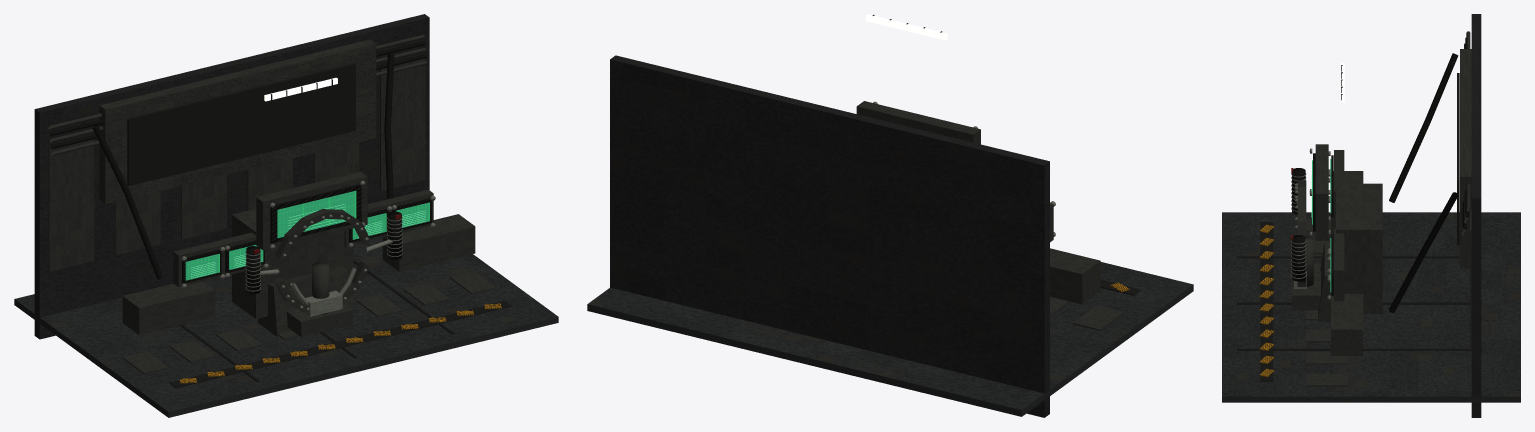
Rendered from GLB_01_cockpit_helm_and_status.glb.
3 views of the same model, side by side, from view 1: azimuth 30°, elevation 25°; view 2: azimuth 150°, elevation 25°; view 3: azimuth 270°, elevation 25° (orthographic). The views are drawn at different scales.
Parts seen in each view (by area): view 1: cockpit_oily_diamond_floor_base, cockpit_rear_blackened_wall, cockpit_forward_window_black_glass, cockpit_wide_forward_window_outer_frame, cockpit_rear_panel_0, cockpit_rear_panel_5, cockpit_central_status_console_body, cockpit_side_console_-1.8, cockpit_side_console_1.8, cockpit_large_center_crt_thick_chipped_frame, cockpit_rear_panel_2, cockpit_rear_panel_1 (+27 smaller); view 2: cockpit_rear_blackened_wall, cockpit_oily_diamond_floor_base, cockpit_side_console_-1.8, cockpit_large_center_crt_thick_chipped_frame, cockpit_raised_floor_panel_0, cockpit_overhead_strip_light_warm_cage; view 3: cockpit_oily_diamond_floor_base, cockpit_central_status_console_body, cockpit_rear_blackened_wall, cockpit_wide_forward_window_outer_frame, cockpit_side_console_1.8, cockpit_black_recessed_hazard_strip, cockpit_large_center_crt_thick_chipped_frame, cockpit_side_hose_-2.05, cockpit_side_hose_2.05, cockpit_console_sloped_base, cockpit_helm_floor_mounted_base, cockpit_right_handle_rubber_core (+12 smaller).
Part boxes in pixels (left/top/right/bottom): cockpit_oily_diamond_floor_base: left=14, top=237, right=558, bottom=417; cockpit_rear_blackened_wall: left=34, top=14, right=429, bottom=339; cockpit_forward_window_black_glass: left=127, top=63, right=355, bottom=185; cockpit_wide_forward_window_outer_frame: left=99, top=39, right=376, bottom=204; cockpit_rear_panel_0: left=48, top=139, right=94, bottom=271; cockpit_rear_panel_5: left=380, top=58, right=425, bottom=190; cockpit_central_status_console_body: left=232, top=209, right=353, bottom=318; cockpit_side_console_-1.8: left=122, top=281, right=215, bottom=335; cockpit_side_console_1.8: left=382, top=214, right=475, bottom=271; cockpit_large_center_crt_thick_chipped_frame: left=256, top=171, right=367, bottom=249; cockpit_rear_panel_2: left=181, top=174, right=226, bottom=239; cockpit_rear_panel_1: left=115, top=191, right=160, bottom=255; cockpit_rear_blackened_wall: left=610, top=55, right=1049, bottom=417; cockpit_oily_diamond_floor_base: left=587, top=262, right=1193, bottom=416; cockpit_side_console_-1.8: left=1050, top=248, right=1100, bottom=304; cockpit_large_center_crt_thick_chipped_frame: left=856, top=101, right=980, bottom=144; cockpit_raised_floor_panel_0: left=1072, top=305, right=1124, bottom=330; cockpit_overhead_strip_light_warm_cage: left=865, top=14, right=947, bottom=40; cockpit_oily_diamond_floor_base: left=1222, top=212, right=1520, bottom=402; cockpit_central_status_console_body: left=1336, top=183, right=1382, bottom=313; cockpit_rear_blackened_wall: left=1471, top=14, right=1481, bottom=417; cockpit_wide_forward_window_outer_frame: left=1460, top=49, right=1471, bottom=268; cockpit_side_console_1.8: left=1331, top=294, right=1363, bottom=355; cockpit_black_recessed_hazard_strip: left=1260, top=222, right=1273, bottom=381; cockpit_large_center_crt_thick_chipped_frame: left=1315, top=144, right=1328, bottom=240; cockpit_side_hose_-2.05: left=1389, top=53, right=1458, bottom=202; cockpit_side_hose_2.05: left=1389, top=192, right=1458, bottom=312; cockpit_console_sloped_base: left=1317, top=241, right=1333, bottom=321; cockpit_helm_floor_mounted_base: left=1292, top=271, right=1320, bottom=310; cockpit_right_handle_rubber_core: left=1292, top=235, right=1305, bottom=281.
Size of the model in its own units: 5.4 by 3.36 by 3.7.
11 materials, 8 textured.
